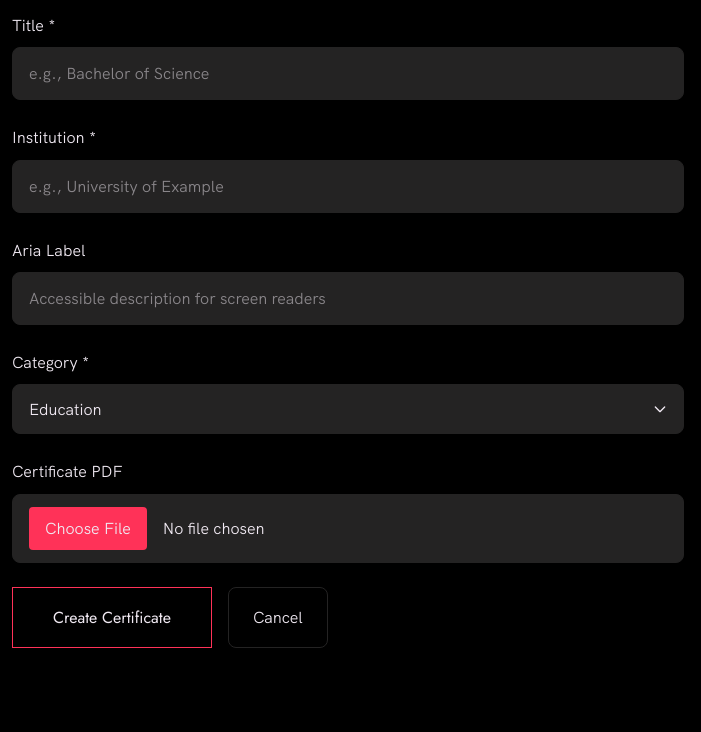
Test: CertificateForm Component › Error Handling › displays generic error for non-Error throws
In the field labelled "Title *": (348, 74) [12,47,684,100], type "B.S."
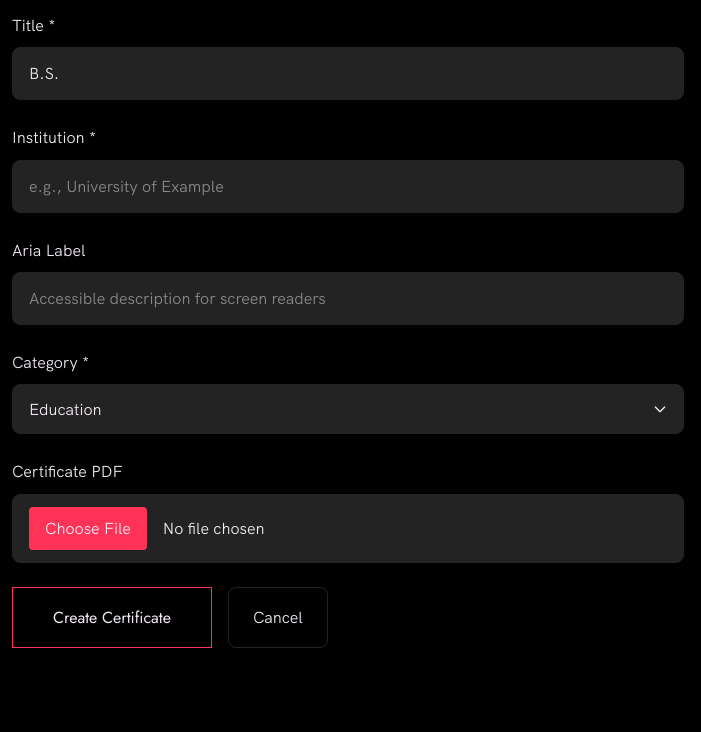
In the field labelled "Institution *": (348, 186) [12,160,684,213], type "University"
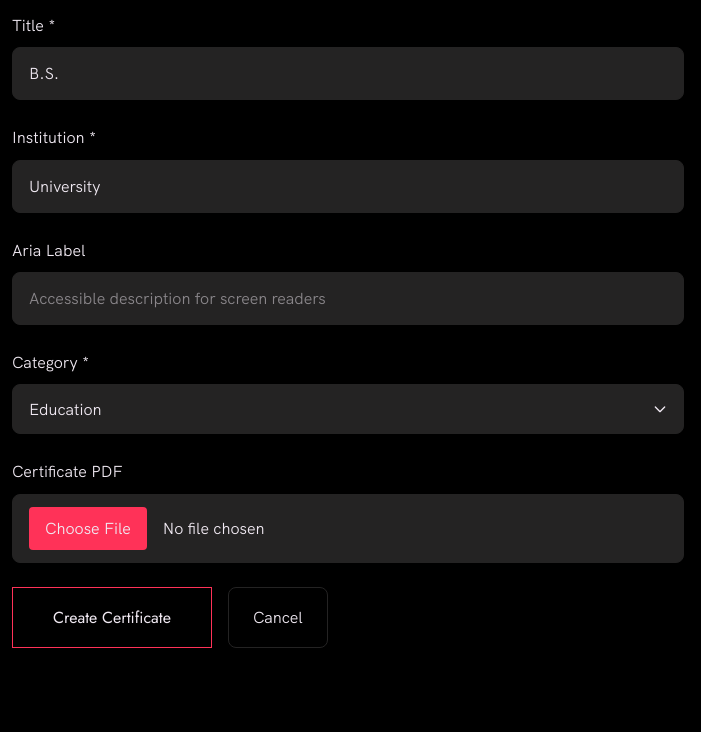
Click the button "Create Certificate": (112, 617) [12,587,212,648]
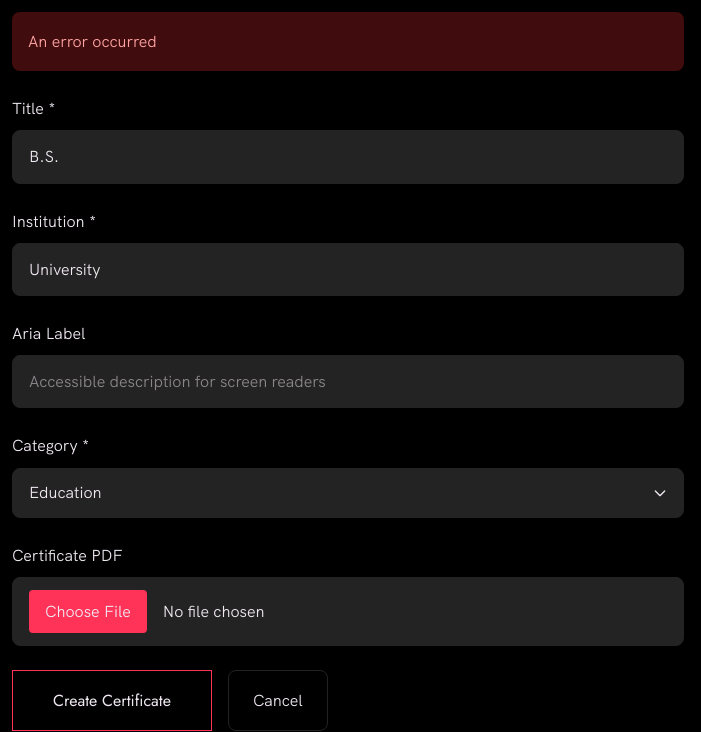
Check: the text "An error occurred" is shown, box [12,12,684,71]
